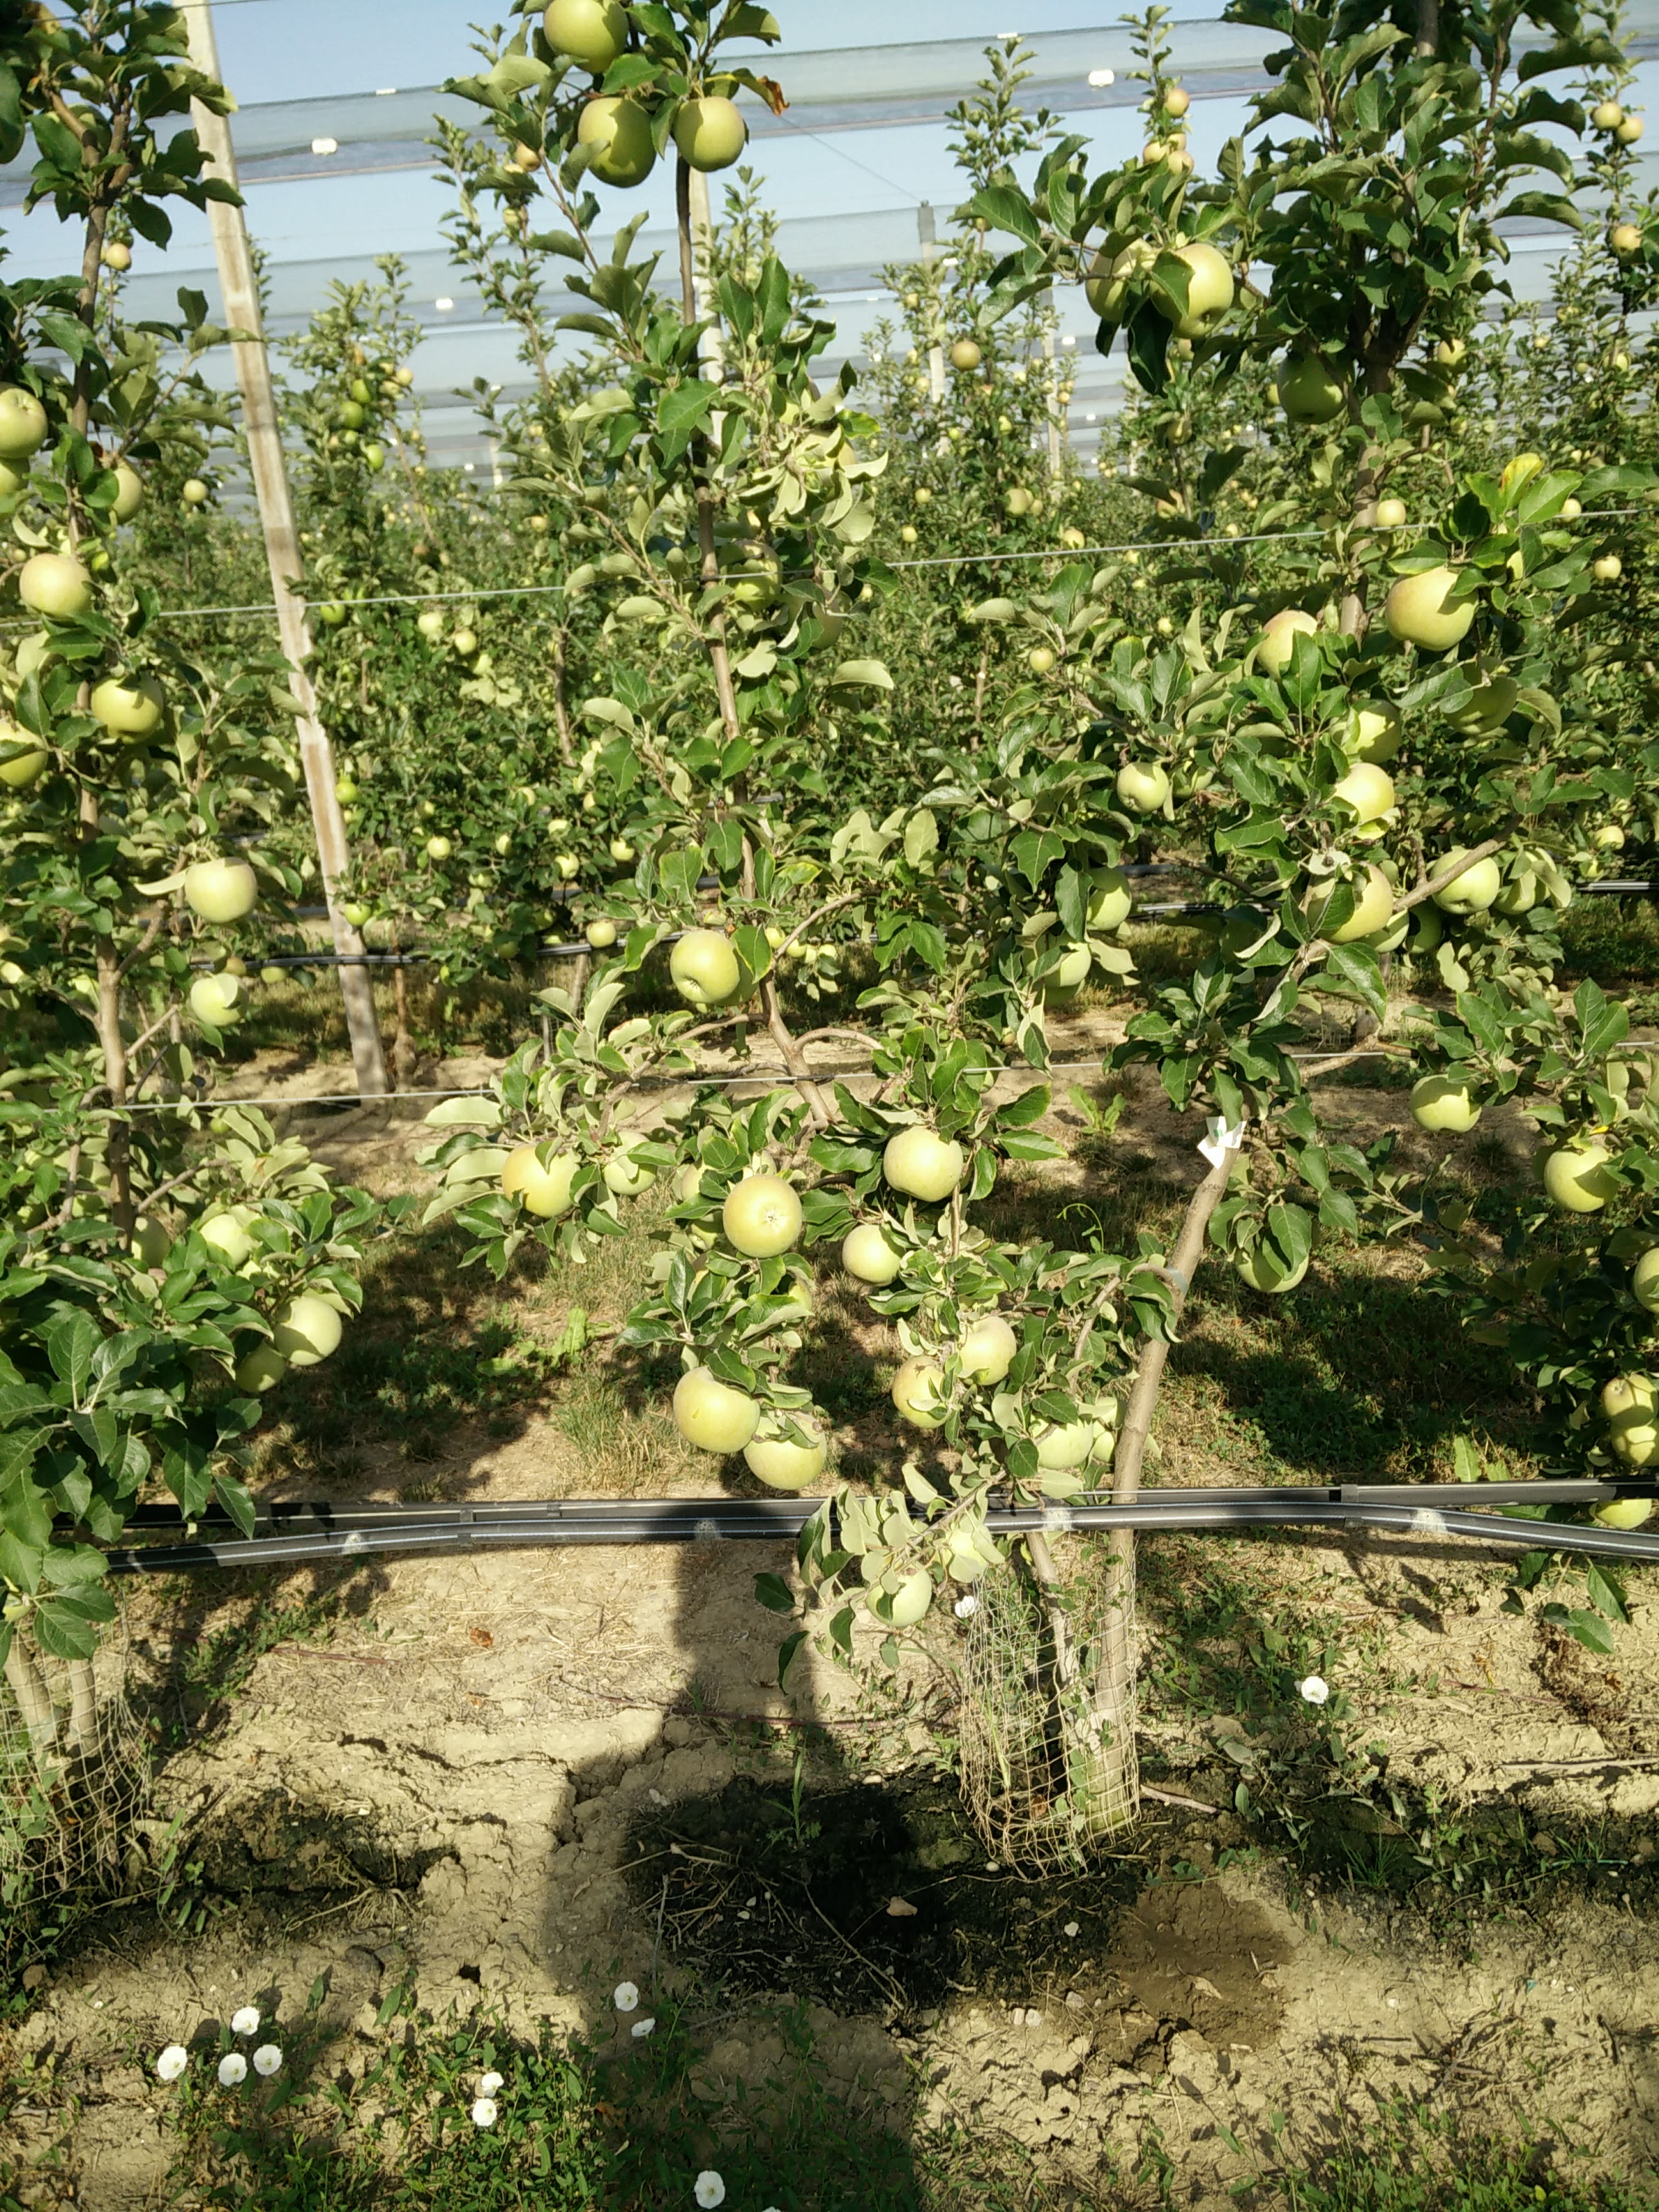apple: (1150, 241, 1237, 344), (1388, 552, 1473, 653), (669, 1362, 756, 1457), (574, 94, 659, 188), (1307, 859, 1395, 946), (722, 1174, 805, 1259), (878, 1121, 965, 1201), (740, 1409, 825, 1492), (86, 666, 167, 754), (541, 1, 632, 76), (669, 90, 750, 174), (883, 1356, 968, 1432), (14, 547, 93, 624), (666, 929, 743, 1004), (500, 1143, 579, 1218), (1248, 606, 1328, 679), (1545, 1136, 1616, 1212), (1430, 841, 1500, 914), (183, 854, 258, 924), (273, 1298, 345, 1368), (948, 1316, 1021, 1385), (1329, 760, 1403, 826), (1407, 1069, 1481, 1134), (838, 1221, 910, 1282), (194, 1214, 257, 1266), (1113, 758, 1173, 814), (1602, 1374, 1656, 1425)
